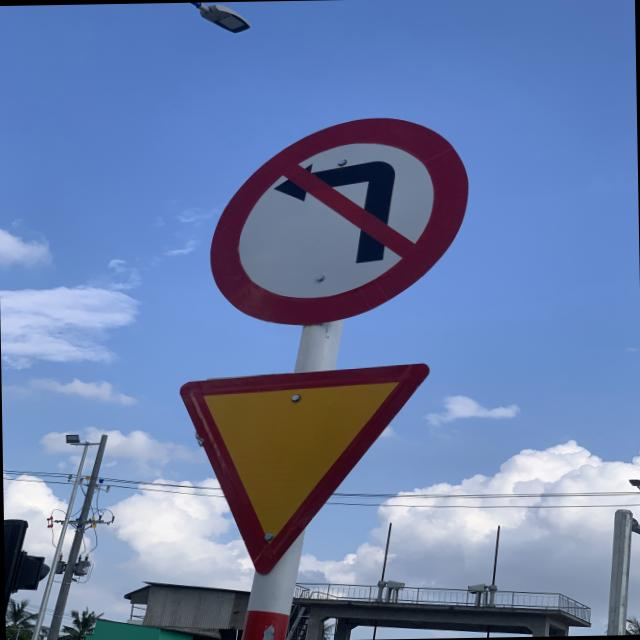Cam_Re_Trai: (211, 112, 471, 324)
Gioi_Han_Toc_Do_25: (178, 360, 428, 564)
